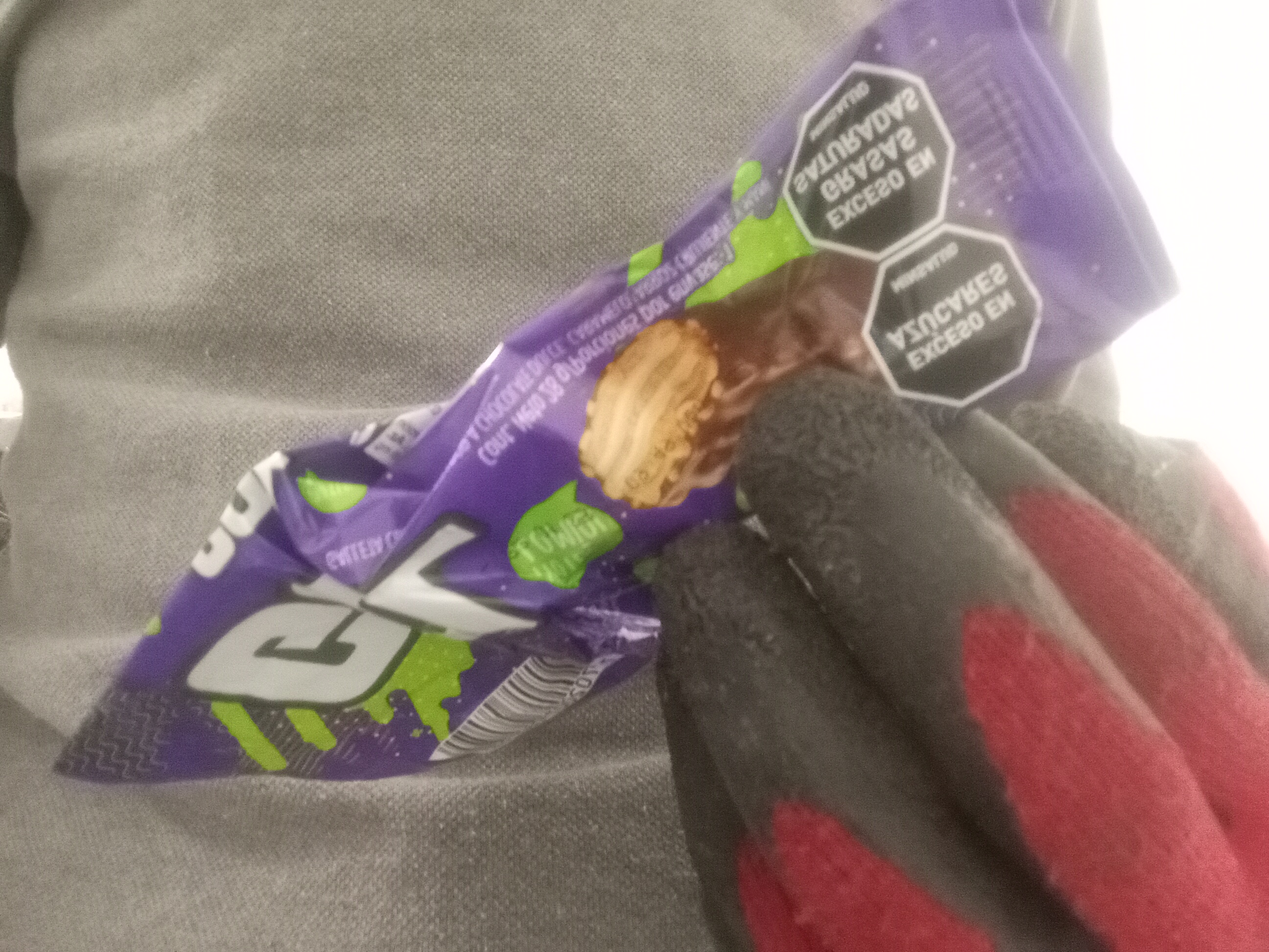Ordinario: (58, 0, 1181, 783)
